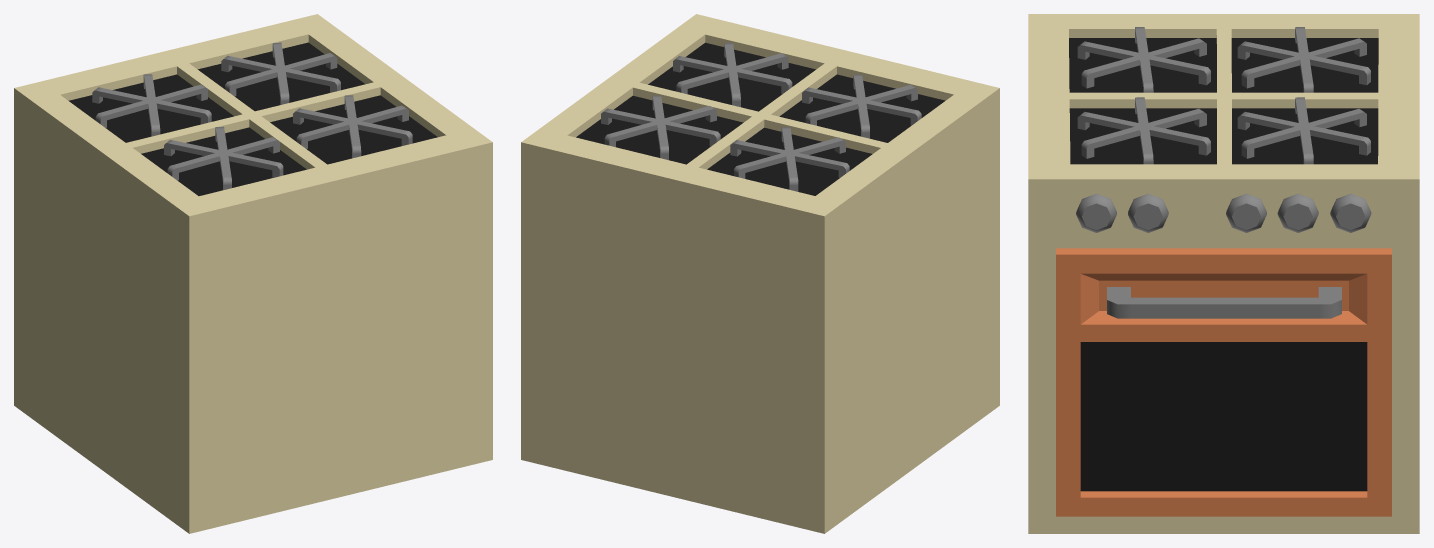
The model's file is SM_Oven_02.fbx.
The picture shows the model from 3 angles, left to right: view 1: azimuth 30°, elevation 25°; view 2: azimuth 150°, elevation 25°; view 3: azimuth 270°, elevation 25°; orthographic projection. The views are drawn at different scales.
Parts seen in each view (by area): view 1: SM_Oven_02; view 2: SM_Oven_02; view 3: SM_Oven_02.
Boxes of the visible parts, bbox=[...] form: SM_Oven_02: bbox=[14, 14, 492, 533]; SM_Oven_02: bbox=[521, 14, 999, 533]; SM_Oven_02: bbox=[1028, 14, 1419, 533].
Size of the model in its own units: 1.12 by 1 by 1.01.
